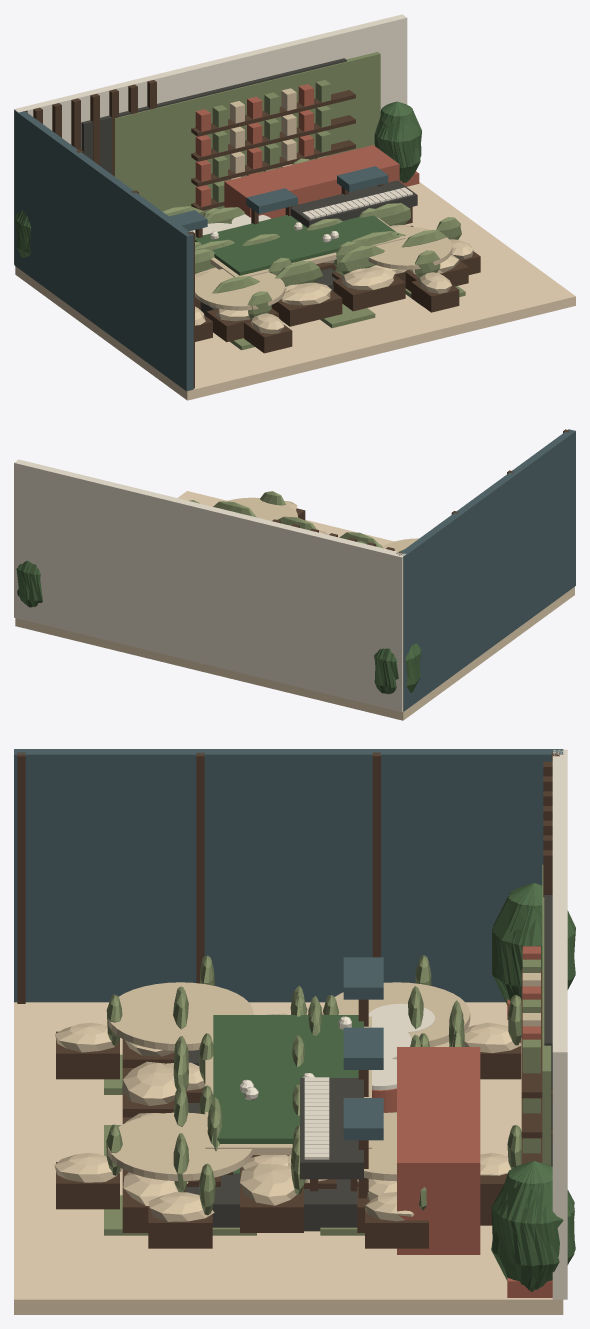
Rendered from clubhouse-studies.glb.
3 renders of one model, top to bottom at view 1: azimuth 30°, elevation 25°; view 2: azimuth 150°, elevation 25°; view 3: azimuth 270°, elevation 25°, orthographic. The views are drawn at different scales.
Parts seen in each view (by area): view 1: clubhouse-01_study, clubhouse-11_study, clubhouse-10_study, clubhouse-04_study, clubhouse-02_study, clubhouse-13_study, clubhouse-12_study, clubhouse-05_study, clubhouse-06_study, clubhouse-08_study, clubhouse-14_study, clubhouse-09_study; view 2: clubhouse-01_study, clubhouse-02_study, clubhouse-10_study, clubhouse-13_study, clubhouse-03_study; view 3: clubhouse-01_study, clubhouse-02_study, clubhouse-10_study, clubhouse-13_study, clubhouse-05_study, clubhouse-12_study, clubhouse-04_study, clubhouse-11_study, clubhouse-06_study, clubhouse-07_study, clubhouse-03_study, clubhouse-08_study (+2 smaller).
Part boxes in pixels (x1,y1,x2,y2): clubhouse-01_study: (14, 14, 575, 400); clubhouse-11_study: (16, 52, 420, 234); clubhouse-10_study: (16, 58, 468, 342); clubhouse-04_study: (16, 80, 421, 238); clubhouse-02_study: (15, 103, 480, 353); clubhouse-13_study: (17, 102, 409, 276); clubhouse-12_study: (29, 102, 420, 236); clubhouse-05_study: (20, 102, 412, 316); clubhouse-06_study: (26, 102, 465, 350); clubhouse-08_study: (21, 102, 420, 273); clubhouse-14_study: (19, 103, 414, 273); clubhouse-09_study: (19, 102, 418, 257); clubhouse-01_study: (14, 429, 575, 720); clubhouse-02_study: (20, 491, 418, 684); clubhouse-10_study: (17, 501, 416, 687); clubhouse-13_study: (17, 564, 417, 693); clubhouse-03_study: (22, 564, 415, 692); clubhouse-01_study: (14, 749, 575, 1314); clubhouse-02_study: (54, 883, 574, 1296); clubhouse-10_study: (122, 884, 574, 1259); clubhouse-13_study: (205, 883, 575, 1290); clubhouse-05_study: (186, 884, 574, 1248); clubhouse-12_study: (300, 884, 575, 1289); clubhouse-04_study: (444, 883, 574, 1291); clubhouse-11_study: (233, 864, 557, 1269); clubhouse-06_study: (104, 884, 542, 1280); clubhouse-07_study: (493, 884, 574, 1288); clubhouse-03_study: (306, 884, 574, 1279); clubhouse-08_study: (207, 884, 538, 1282).
Bounding box in the file's own units: 8.84 × 3.48 × 6.75.
